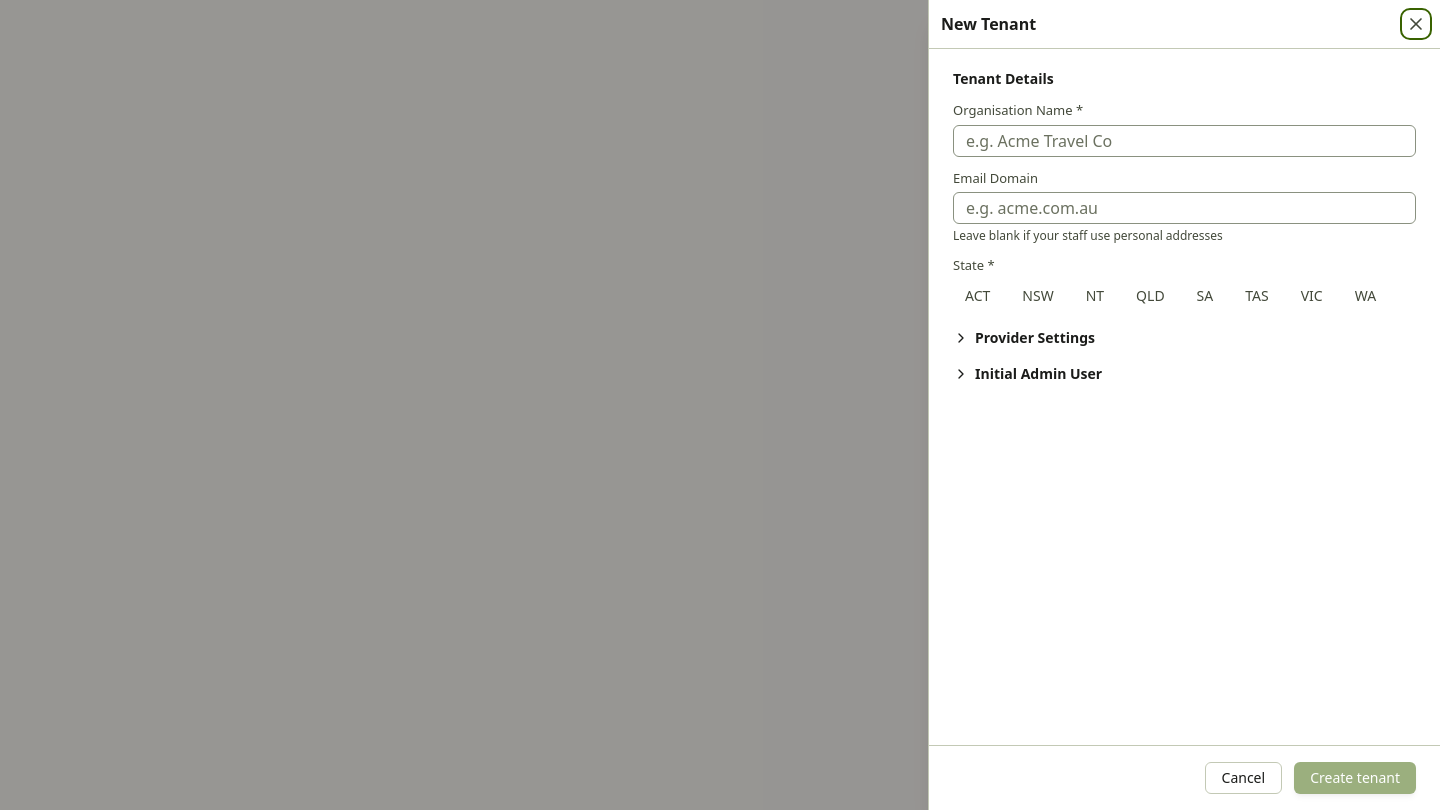
Test case: TenantFormPanel create: what became of the first user's sign-in account › says nothing about a first user, and sends nothing, when none was given
Type "Brightside Care" into the field with placeholder "e.g. Acme Travel Co".
click(1184, 140); type("Brightside Care")  # box [953,124,1416,156]
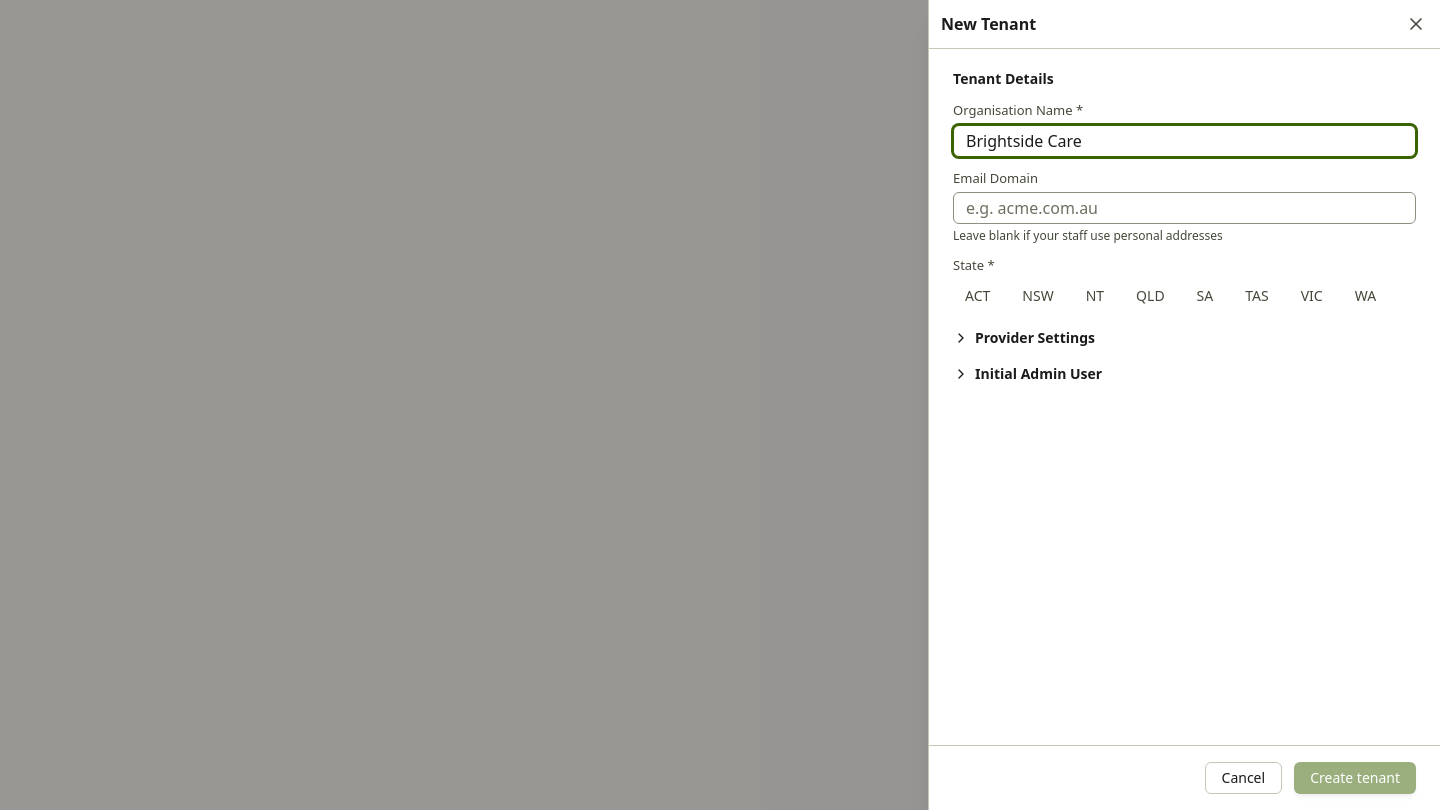
Type "brightside.example.com" into the field with placeholder "e.g. acme.com.au".
click(1184, 208); type("brightside.example.com")  # box [953,192,1416,224]
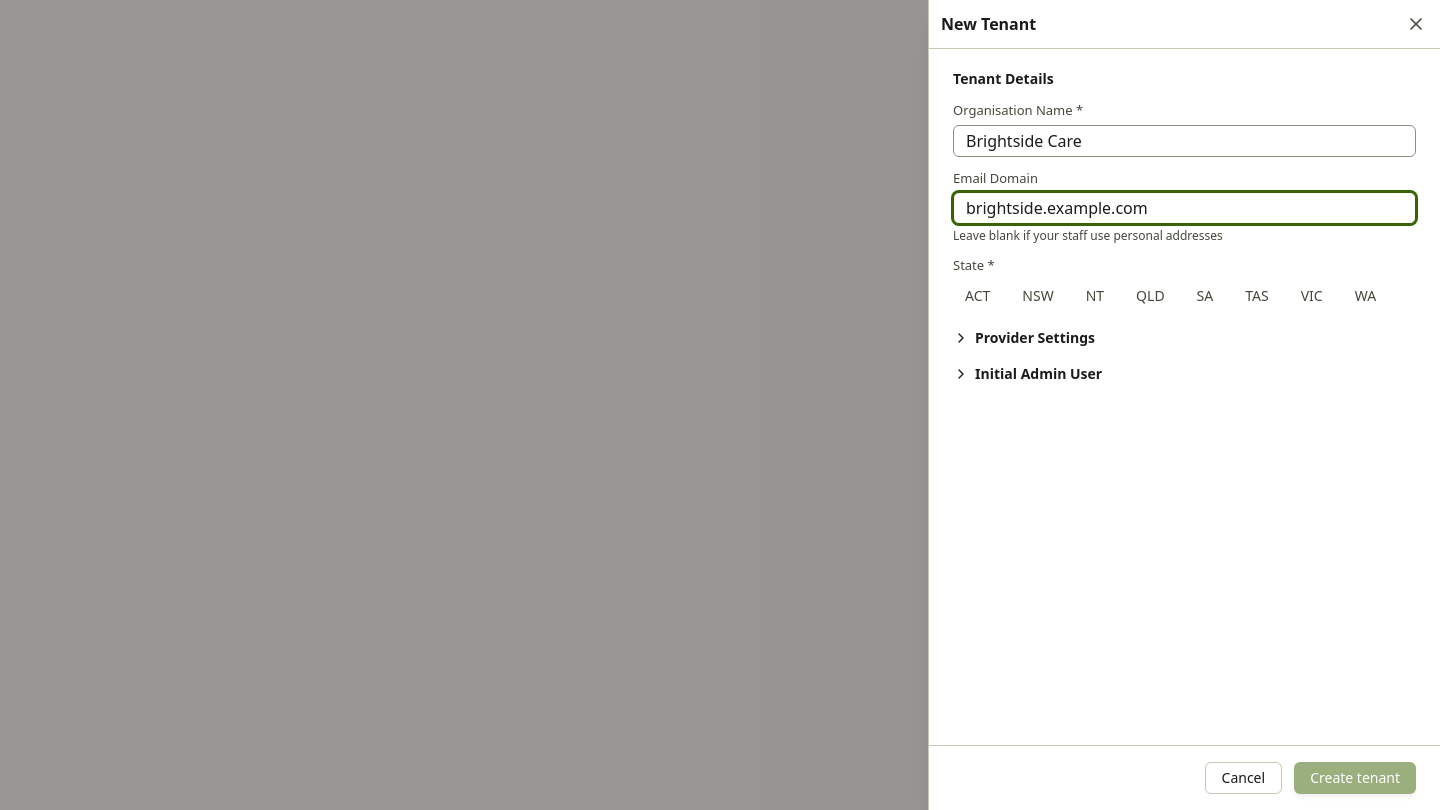
Click the radio button labelled "NSW".
click(1038, 296)  # box [1010,280,1066,312]
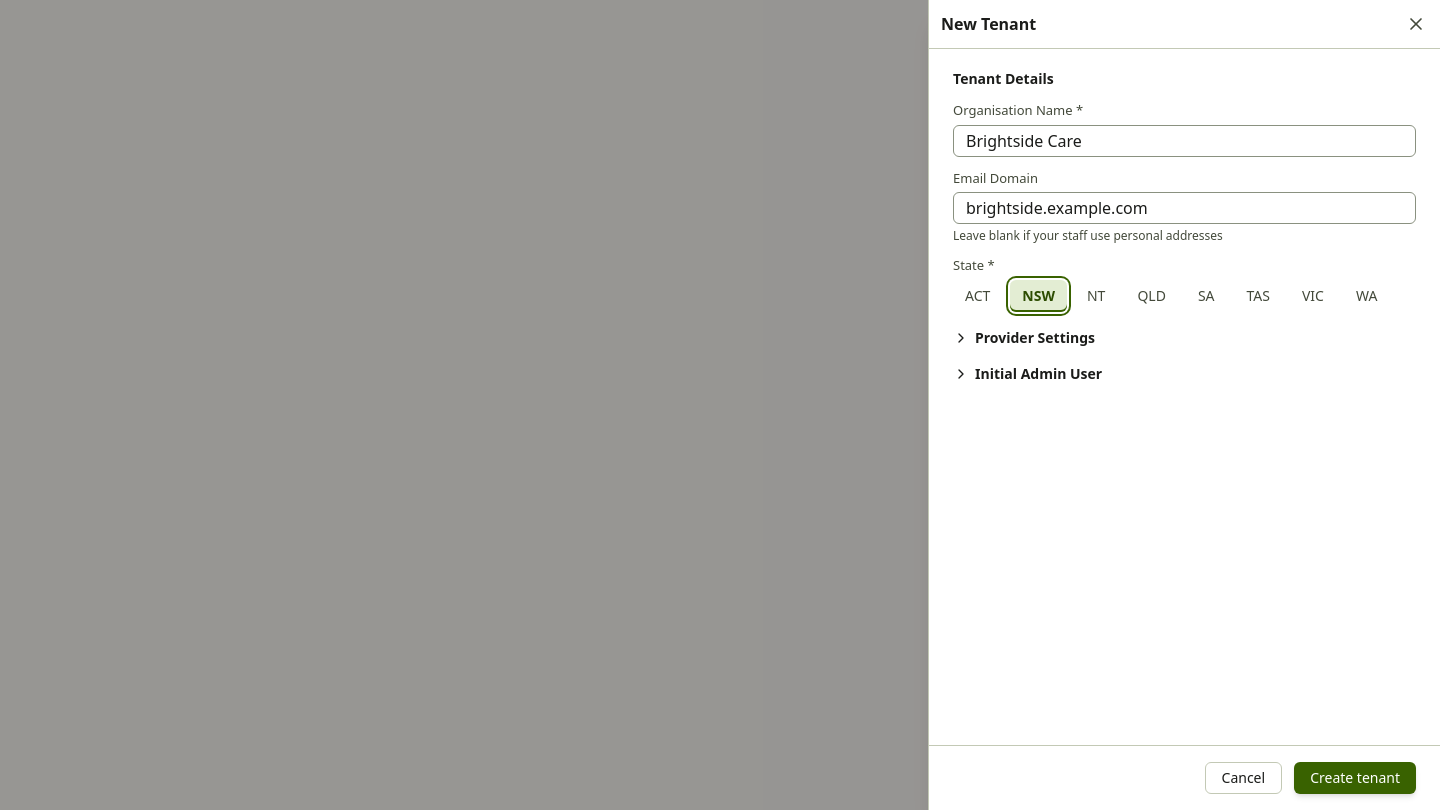
Click the button "Create tenant".
click(1355, 778)  # box [1294,762,1416,794]
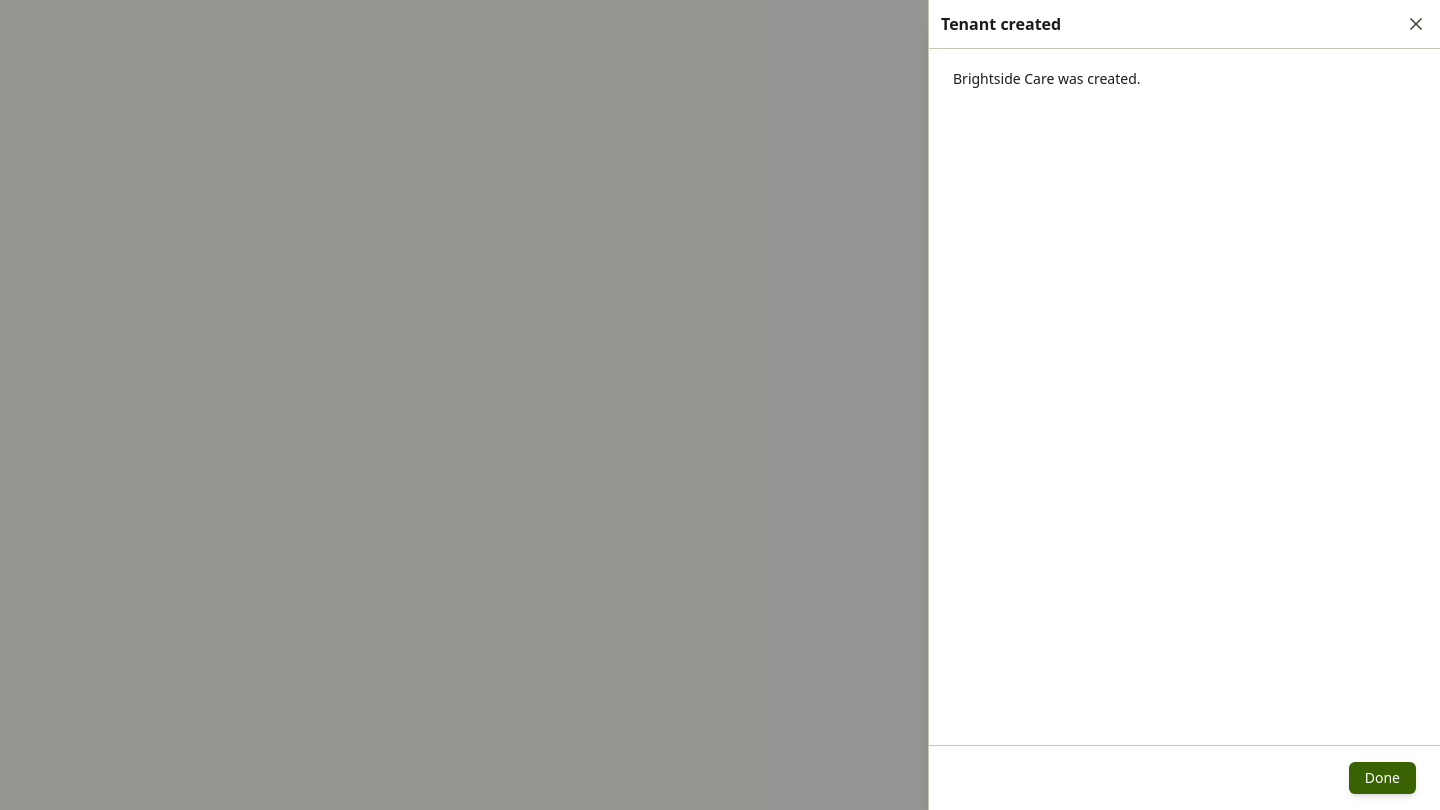
Result: the text "Brightside Care was created." is shown at [953,69,1140,88]
Result: the text "Email Domain" is gone
